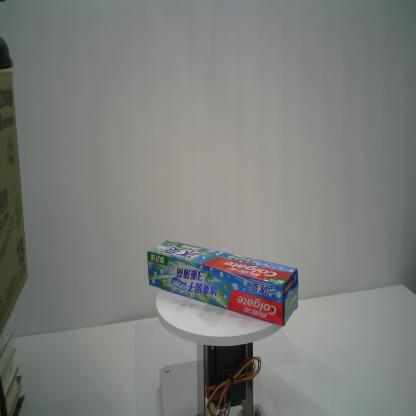Personal Hygiene: (145, 236, 300, 328)
